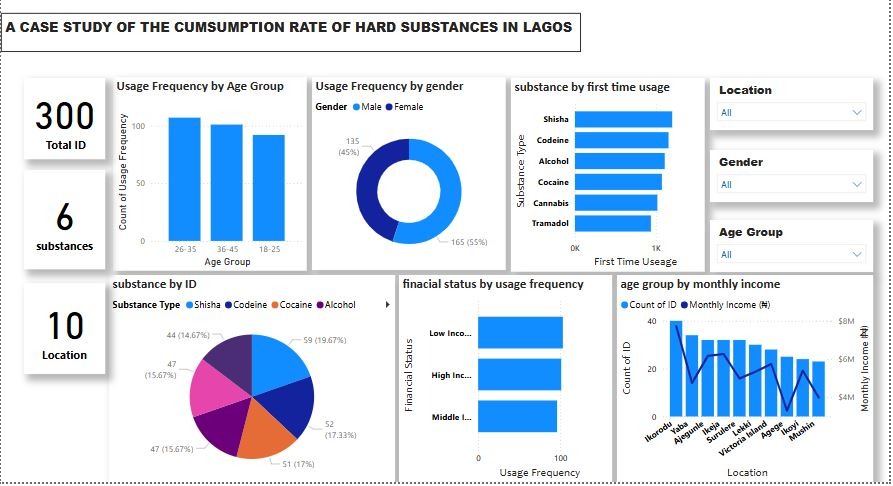

The page's visual inventory and layout, read from the dashboard file:
{"tool":"powerbi","page":{"name":"Page 1","canvas":[1280,720],"ordinal":0},"visuals":[{"type":"clusteredColumnChart","title":"Usage Frequency by Age Group","fields":{"Category":["substance usage in lagas.Age Group"],"Y":["CountNonNull(substance usage in lagas.Usage Frequency)"]},"box":[161.3,136.8,279.4,279.4],"z":0},{"type":"donutChart","title":"Usage Frequency by gender","fields":{"Category":["substance usage in lagas.Gender"],"Y":["CountNonNull(substance usage in lagas.Usage Frequency)"]},"box":[447.8,136.8,279.4,277.9],"z":1000},{"type":"barChart","title":"Substance by First time Usage","fields":{"Y":["Sum(substance usage in lagas.First Time Use Age)"],"Category":["substance usage in lagas.Substance Type"]},"box":[734.1,137.7,278.8,278.8],"z":2000},{"type":"pieChart","title":"Substance by ID","fields":{"Category":["substance usage in lagas.Substance Type"],"Y":["CountNonNull(substance usage in lagas.ID)"]},"box":[156.2,421.6,411.5,299],"z":3000},{"type":"barChart","title":"Financial status by Usage Frequency","fields":{"Category":["substance usage in lagas.Financial Status"],"Y":["CountNonNull(substance usage in lagas.Usage Frequency)"]},"box":[573.1,421.9,306.7,298.1],"z":4000},{"type":"slicer","title":"location","fields":{"Values":["substance usage in lagas.Location"]},"box":[1021,138.2,234.7,74.9],"z":5000},{"type":"slicer","title":"location","fields":{"Values":["substance usage in lagas.Gender"]},"box":[1021,241.9,234.7,74.9],"z":6000},{"type":"slicer","title":"location","fields":{"Values":["substance usage in lagas.Age Group"]},"box":[1021,342.7,234.7,74.9],"z":7000},{"type":"textbox","box":[0,46.1,1280.2,56.2],"z":8000},{"type":"card","title":"substance by first time usage","fields":{"Values":["CountNonNull(substance usage in lagas.ID)"]},"box":[33.1,138.2,116.6,161.3],"z":9000},{"type":"lineStackedColumnComboChart","title":"Age Group by Monthly Income","fields":{"Category":["substance usage in lagas.Location"],"Y":["CountNonNull(substance usage in lagas.ID)"],"Y2":["Sum(substance usage in lagas.Monthly Income (₦))"]},"box":[887,421.9,368.6,298.1],"z":10000},{"type":"card","title":"substance by first time usage","fields":{"Values":["Count(substance usage in lagas.Substance Type)"]},"box":[33.1,342.7,116.6,164.2],"z":11000},{"type":"card","title":"substance by first time usage","fields":{"Values":["Count(substance usage in lagas.Location)"]},"box":[33.1,557.3,116.6,162.7],"z":12000}]}

Visuals, with their boxes on the page's 1280x720 design canvas (x1, y1, x2, y2). These are canvas units, not pixel positions in the 893x486 screenshot, which may show the page scaled, cropped or inside an application window:
"Usage Frequency by Age Group" clusteredColumnChart: bbox=[161, 137, 441, 416]
"Usage Frequency by gender" donutChart: bbox=[448, 137, 727, 415]
"Substance by First time Usage" barChart: bbox=[734, 138, 1013, 416]
"Substance by ID" pieChart: bbox=[156, 422, 568, 721]
"Financial status by Usage Frequency" barChart: bbox=[573, 422, 880, 720]
"location" slicer: bbox=[1021, 138, 1256, 213]
"location" slicer: bbox=[1021, 242, 1256, 317]
"location" slicer: bbox=[1021, 343, 1256, 418]
textbox: bbox=[0, 46, 1280, 102]
"substance by first time usage" card: bbox=[33, 138, 150, 300]
"Age Group by Monthly Income" lineStackedColumnComboChart: bbox=[887, 422, 1256, 720]
"substance by first time usage" card: bbox=[33, 343, 150, 507]
"substance by first time usage" card: bbox=[33, 557, 150, 720]
